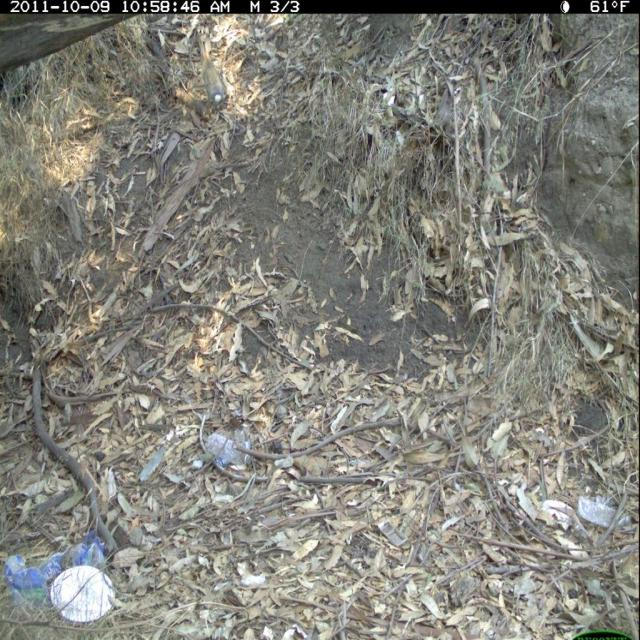rabbit: (196, 30, 234, 113)
